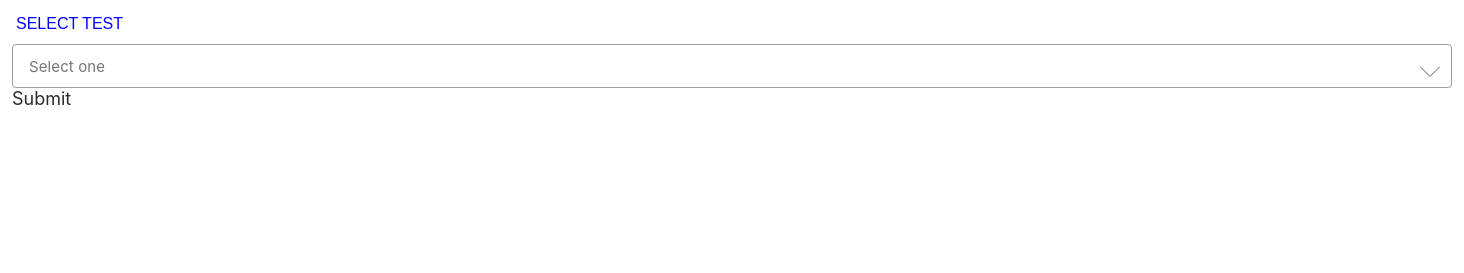
Test case: Item is selectable
The image size is (1464, 273).
Click the button named "toggle-menu". click: (1430, 71)
box: [1420,61,1440,81]
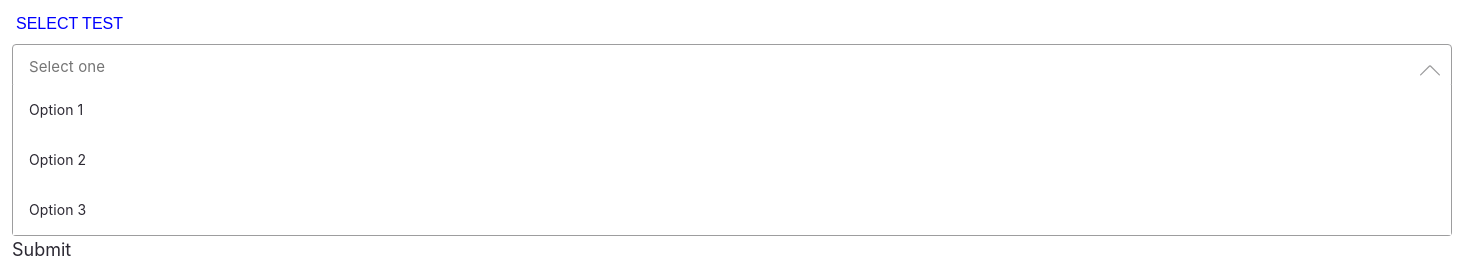
Click the option "Option 1". click: (56, 110)
box: [13,85,1451,135]
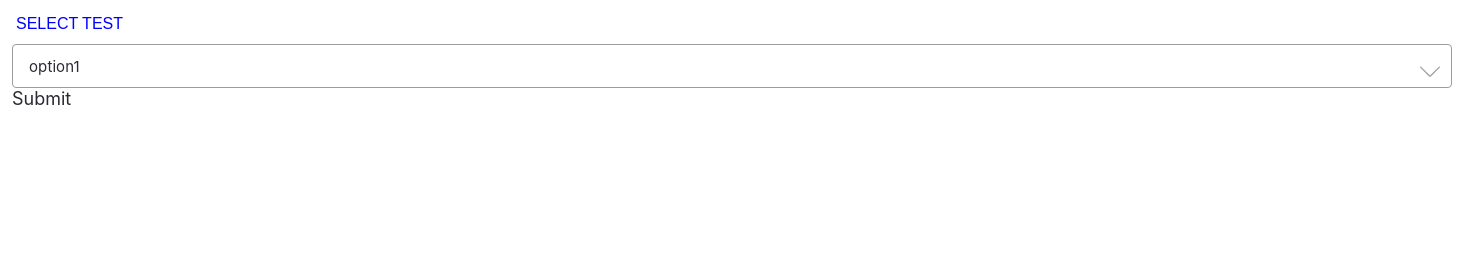
Now the field labelled "Select Test" holds "option1", box [12,44,1452,88]
